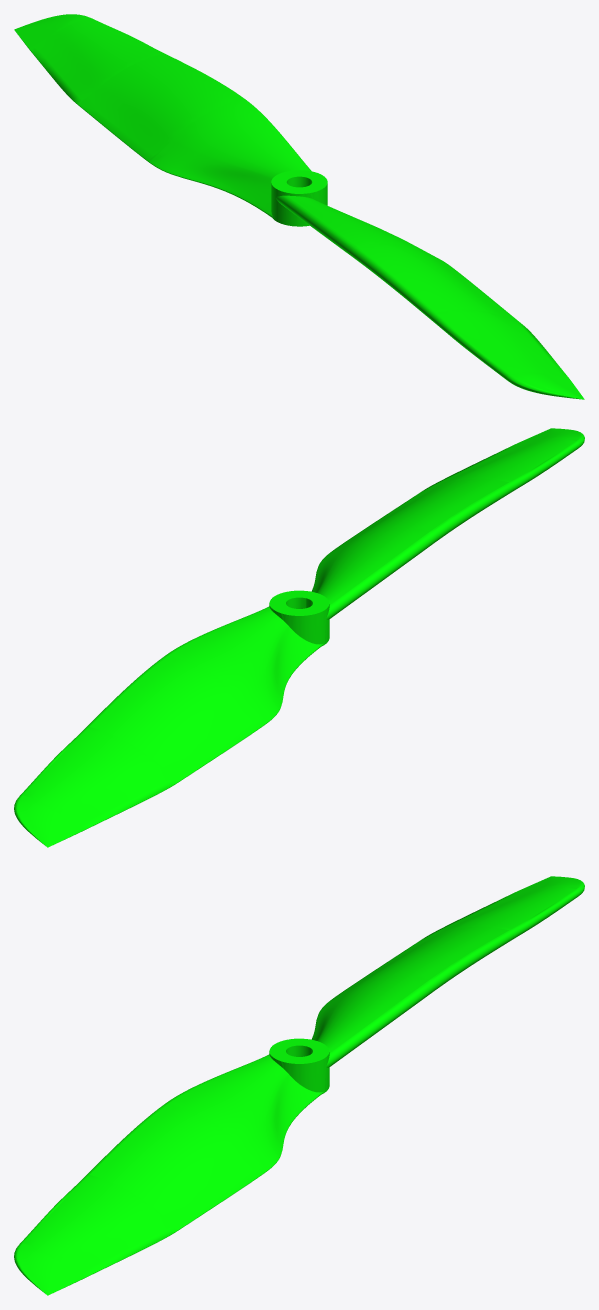
File: propeller_cw.dae
The picture shows the model from 3 angles, top to bottom: view 1: azimuth 30°, elevation 25°; view 2: azimuth 150°, elevation 25°; view 3: azimuth 330°, elevation 25°; orthographic projection. The views are drawn at different scales.
Parts seen in each view (by area): view 1: Body1, Body2; view 2: Body1, Body2; view 3: Body2, Body1.
Part boxes in pixels (<box>): Body1: <box>14,14,327,226</box>; Body2: <box>271,170,584,399</box>; Body1: <box>14,590,329,847</box>; Body2: <box>269,428,584,644</box>; Body2: <box>14,1038,329,1295</box>; Body1: <box>269,876,584,1092</box>.
Bounding box in the file's own units: 26.87 × 203 × 9.01.
